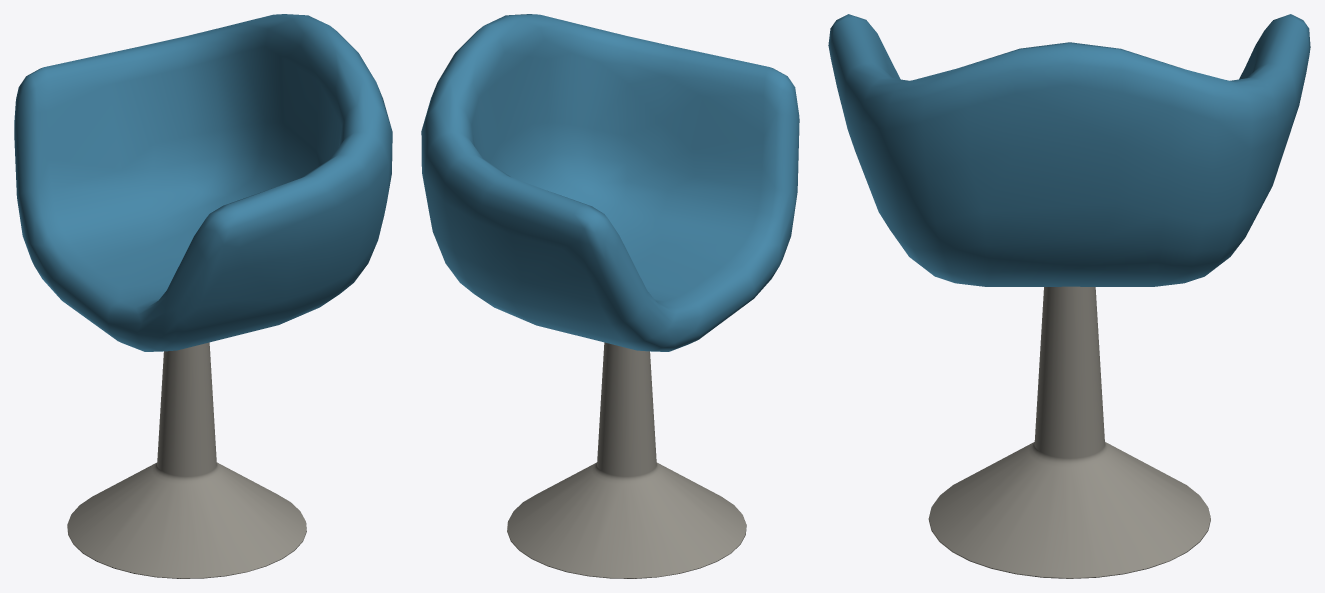
Rendered from chair_09_blue.fbx.
3 renders of one model, left to right at view 1: azimuth 30°, elevation 25°; view 2: azimuth 150°, elevation 25°; view 3: azimuth 270°, elevation 25°, orthographic. The views are drawn at different scales.
Parts seen in each view (by area): view 1: chair_09_blue; view 2: chair_09_blue; view 3: chair_09_blue.
Part boxes in pixels (x1,y1,x2,y2): chair_09_blue: (14,14,392,578); chair_09_blue: (421,14,799,578); chair_09_blue: (828,14,1310,578).
Bounding box in the file's own units: 53.94 × 92.73 × 73.24.
2 materials, 2 textured.
